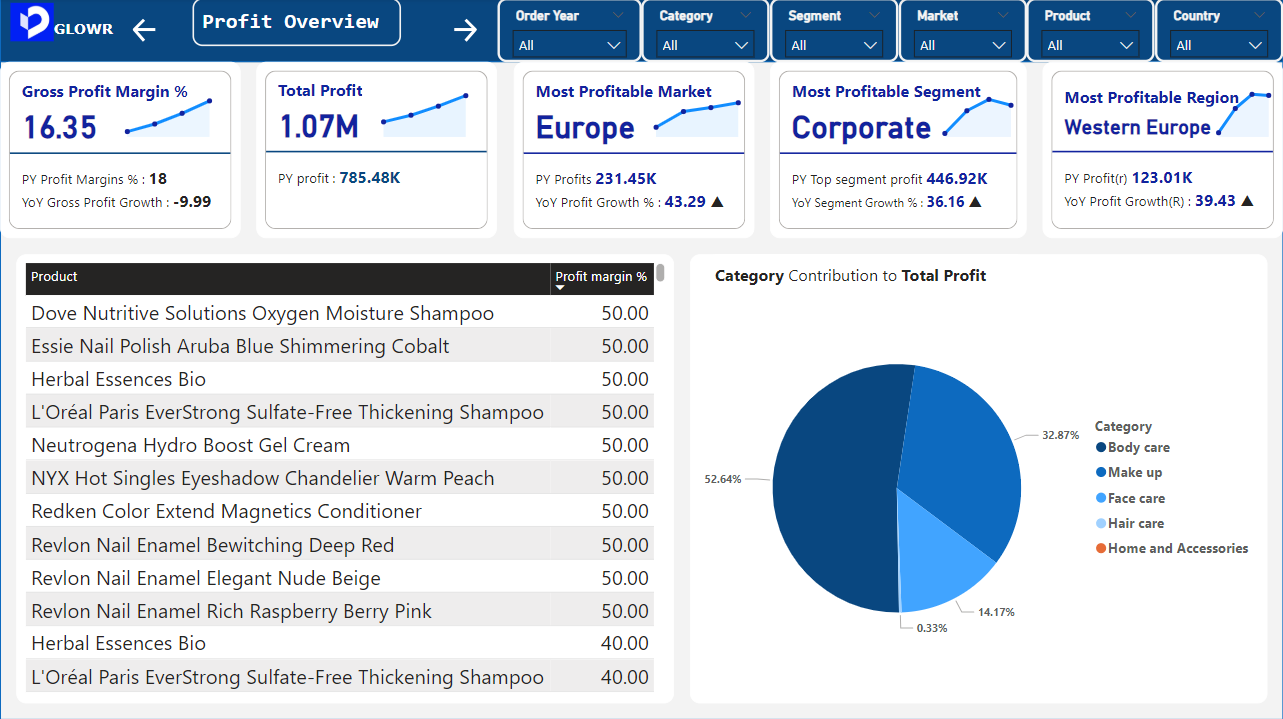

The dashboard page shown, as its layout file describes it:
{"tool":"powerbi","page":{"name":"Overall Profitability Analysis ","canvas":[1280,720],"ordinal":4},"visuals":[{"type":"shape","box":[0,0,1280,720],"z":0},{"type":"shape","box":[0,0,1280,64],"z":1000},{"type":"image","box":[0,0,64,48],"z":2000},{"type":"textbox","box":[48,16,80,32],"z":3000},{"type":"slicer","fields":{"Values":["Category.Category"]},"box":[640,0,128,64],"z":4000},{"type":"slicer","fields":{"Values":["Market.Market"]},"box":[896,0,128,64],"z":5000},{"type":"slicer","fields":{"Values":["Segment.Segment"]},"box":[768,0,128,64],"z":6000},{"type":"slicer","fields":{"Values":["Products.Product"]},"box":[1024,0,128,64],"z":7000},{"type":"slicer","fields":{"Values":["Country.Country"]},"box":[1152,0,128,64],"z":8000},{"type":"slicer","fields":{"Values":["Date.Order Year"]},"box":[496,0,144,64],"z":9000},{"type":"textbox","box":[192,0,208,48],"z":10000},{"type":"cardVisual","fields":{"Data":["Category.Gross Profit Margin %"]},"box":[0,64,240,176],"z":11000},{"type":"cardVisual","fields":{"Data":["Category.Total Profit"]},"box":[256,64,240,176],"z":12000},{"type":"lineChart","fields":{"Category":["Date.Order Year"],"Y":["Sum(Fact Table.Sales)"]},"box":[112,80,112,64],"z":13000},{"type":"lineChart","fields":{"Category":["Date.Order Year"],"Y":["Category.net sales"]},"box":[368,80,112,64],"z":14000},{"type":"cardVisual","fields":{"Data":["Category.Most Profitable Market"]},"box":[512,64,240,176],"z":15000},{"type":"cardVisual","fields":{"Data":["Category.Most Profitable Segment"]},"box":[768,64,256,176],"z":16000},{"type":"lineChart","fields":{"Category":["Date.Order Year"],"Y":["Category.Top segment Profit"]},"box":[928,80,96,64],"z":17000},{"type":"cardVisual","fields":{"Data":["Category.Most Profitable Region"]},"box":[1040,64,240,176],"z":18000},{"type":"lineChart","fields":{"Category":["Date.Order Year"],"Y":["Category.Top region Profit"]},"box":[1200,80,80,64],"z":19000},{"type":"lineChart","fields":{"Category":["Date.Order Year"],"Y":["Category.Top Market Profit"]},"box":[640,80,112,64],"z":20000},{"type":"tableEx","fields":{"Values":["Products.Product","Fact Table.Profit margin %"]},"box":[16,256,656,448],"z":21000},{"type":"pieChart","title":" ","fields":{"Y":["Category.Total Profit"],"Category":["Category.Category"]},"box":[688,256,576,448],"z":22000},{"type":"textbox","box":[704,256,320,48],"z":23000},{"type":"actionButton","box":[128,16,48,32],"z":24000},{"type":"actionButton","box":[448,16,32,32],"z":25000}]}

Visuals, with their boxes in screenshot pixels (x1, y1, x2, y2), scaled from the page's 1280x720 canvas onto the 1283x719 screenshot:
shape: [left=0, top=0, right=1282, bottom=718]
shape: [left=0, top=0, right=1282, bottom=64]
image: [left=0, top=0, right=64, bottom=48]
textbox: [left=48, top=16, right=128, bottom=48]
slicer - Category.Category: [left=642, top=0, right=770, bottom=64]
slicer - Market.Market: [left=898, top=0, right=1026, bottom=64]
slicer - Segment.Segment: [left=770, top=0, right=898, bottom=64]
slicer - Products.Product: [left=1026, top=0, right=1155, bottom=64]
slicer - Country.Country: [left=1155, top=0, right=1282, bottom=64]
slicer - Date.Order Year: [left=497, top=0, right=642, bottom=64]
textbox: [left=192, top=0, right=401, bottom=48]
cardVisual - Category.Gross Profit Margin %: [left=0, top=64, right=241, bottom=240]
cardVisual - Category.Total Profit: [left=257, top=64, right=497, bottom=240]
lineChart - Date.Order Year x Sum(Fact Table.Sales): [left=112, top=80, right=225, bottom=144]
lineChart - Date.Order Year x Category.net sales: [left=369, top=80, right=481, bottom=144]
cardVisual - Category.Most Profitable Market: [left=513, top=64, right=754, bottom=240]
cardVisual - Category.Most Profitable Segment: [left=770, top=64, right=1026, bottom=240]
lineChart - Date.Order Year x Category.Top segment Profit: [left=930, top=80, right=1026, bottom=144]
cardVisual - Category.Most Profitable Region: [left=1042, top=64, right=1282, bottom=240]
lineChart - Date.Order Year x Category.Top region Profit: [left=1203, top=80, right=1282, bottom=144]
lineChart - Date.Order Year x Category.Top Market Profit: [left=642, top=80, right=754, bottom=144]
tableEx - Products.Product x Fact Table.Profit margin %: [left=16, top=256, right=674, bottom=703]
" " pieChart: [left=690, top=256, right=1267, bottom=703]
textbox: [left=706, top=256, right=1026, bottom=304]
actionButton: [left=128, top=16, right=176, bottom=48]
actionButton: [left=449, top=16, right=481, bottom=48]
